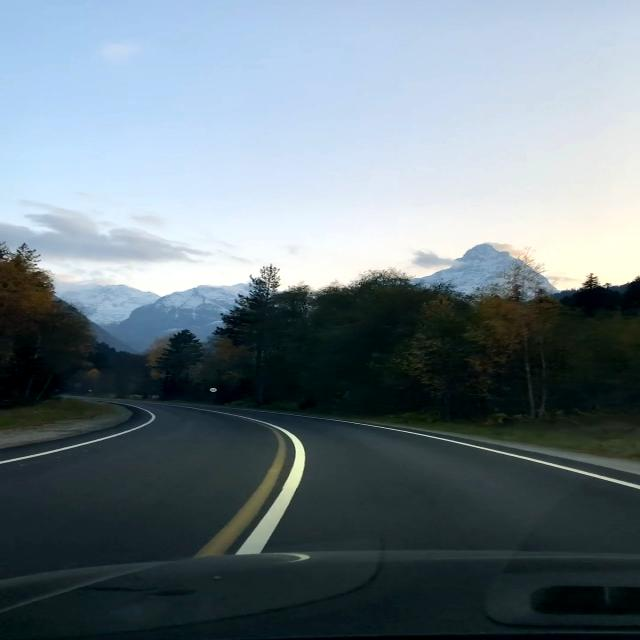lane: (327, 419, 640, 489), (221, 412, 307, 555), (193, 430, 287, 557)
road: (2, 401, 637, 640)
